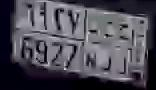2: (49, 6, 65, 68)
6: (20, 0, 35, 63)
7: (65, 8, 79, 72)
9: (35, 1, 48, 65)
J: (114, 20, 128, 76), (102, 20, 112, 73)
